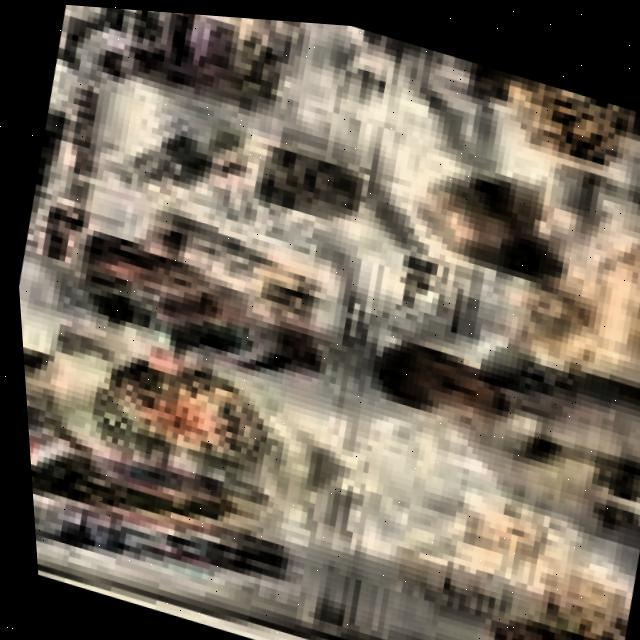paper: (15, 4, 640, 640)
